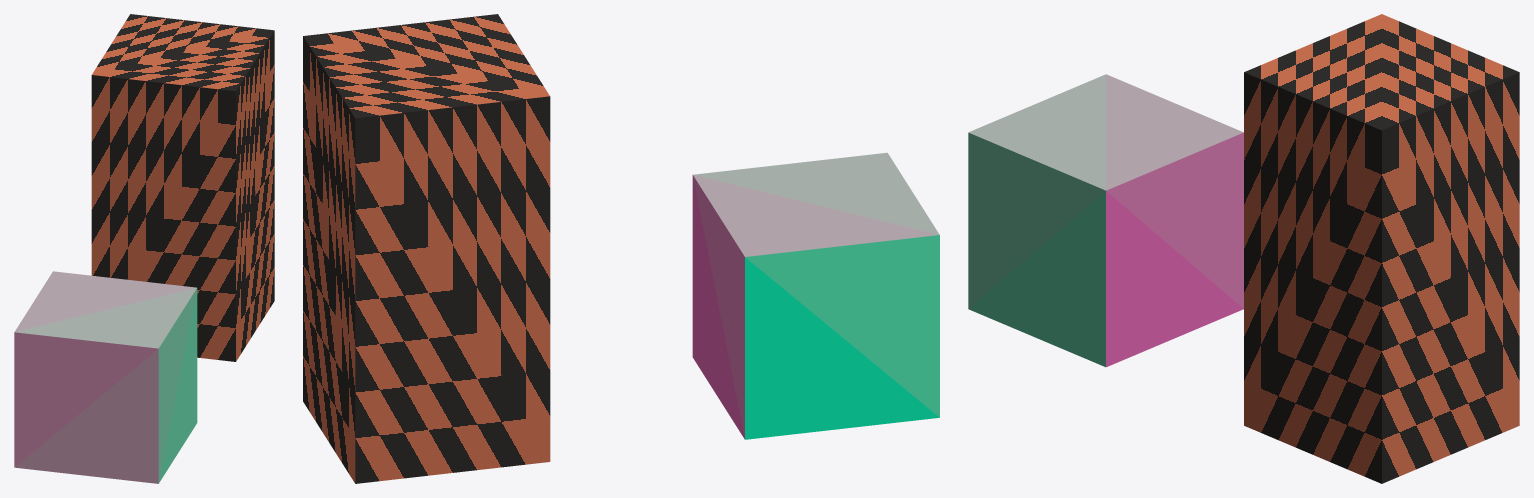
Rendered from knoten_textur.glb.
3 renders of one model, left to right at view 1: azimuth 30°, elevation 25°; view 2: azimuth 150°, elevation 25°; view 3: azimuth 270°, elevation 25°, orthographic. The views are drawn at different scales.
Parts seen in each view (by area): view 1: Textur, Farbig; view 2: Textur, Farbig; view 3: Textur, Farbig.
Part boxes in pixels (box(x1,y1,x2,y2)): Textur: box(91, 14, 274, 361); Farbig: box(14, 271, 197, 483); Textur: box(303, 14, 550, 483); Farbig: box(692, 152, 939, 439); Textur: box(1244, 14, 1519, 483); Farbig: box(968, 74, 1243, 367).
Bounding box in the file's own units: 2.83 × 2 × 2.83.
Materials: 2 (1 with a texture image).
